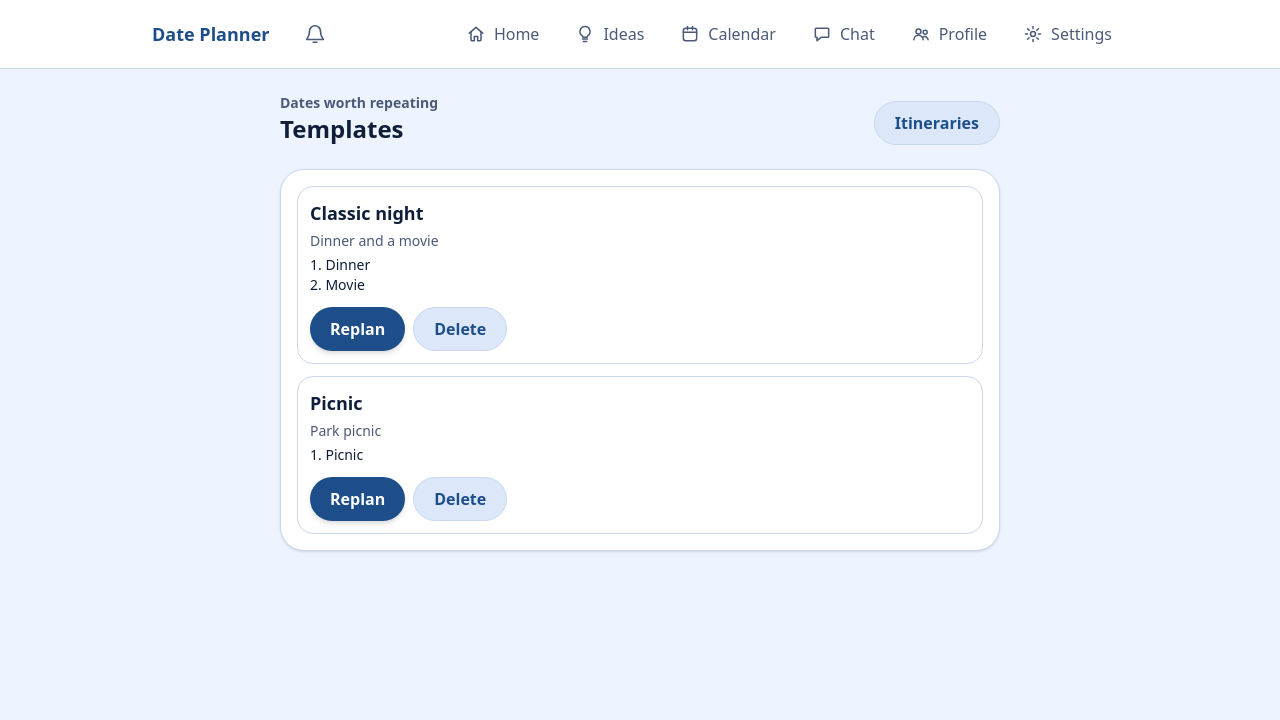
Test: TemplatesPage › deletes only after confirming
Click the button with aria-label "Delete Picnic": (460,499) [413,477,507,521]
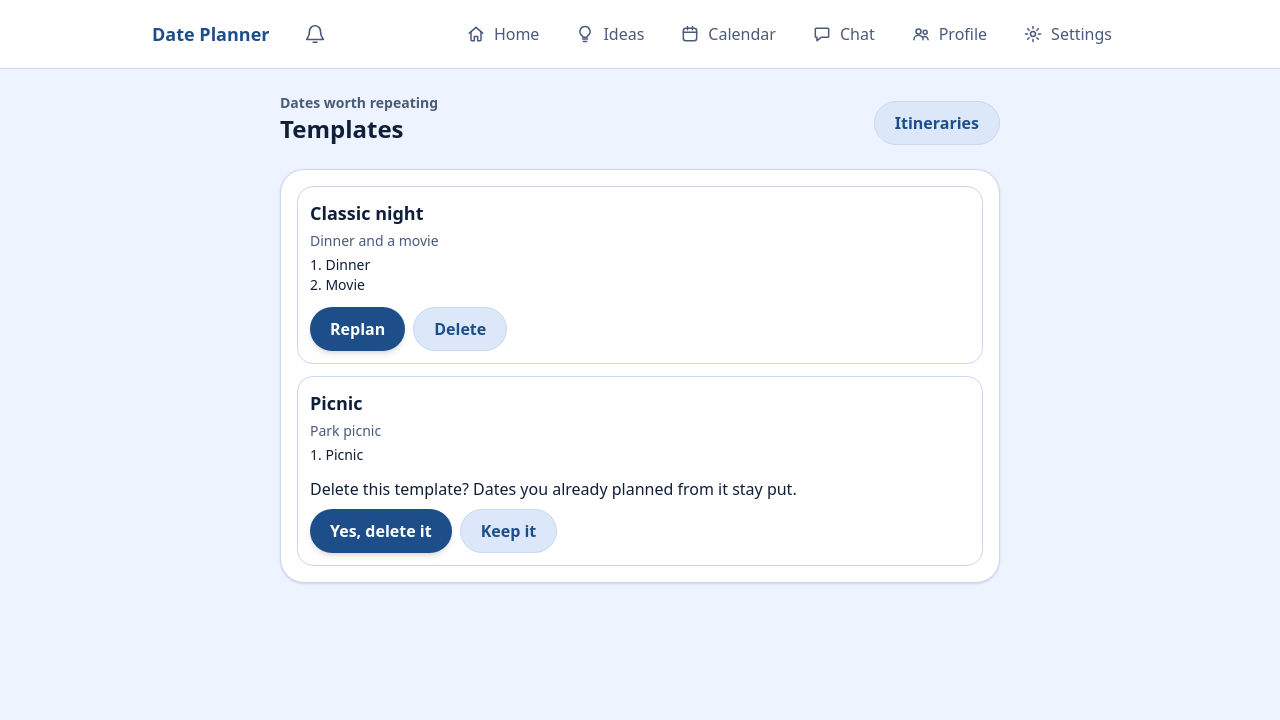
Click the button "Keep it": (508,531) [460,509,557,553]
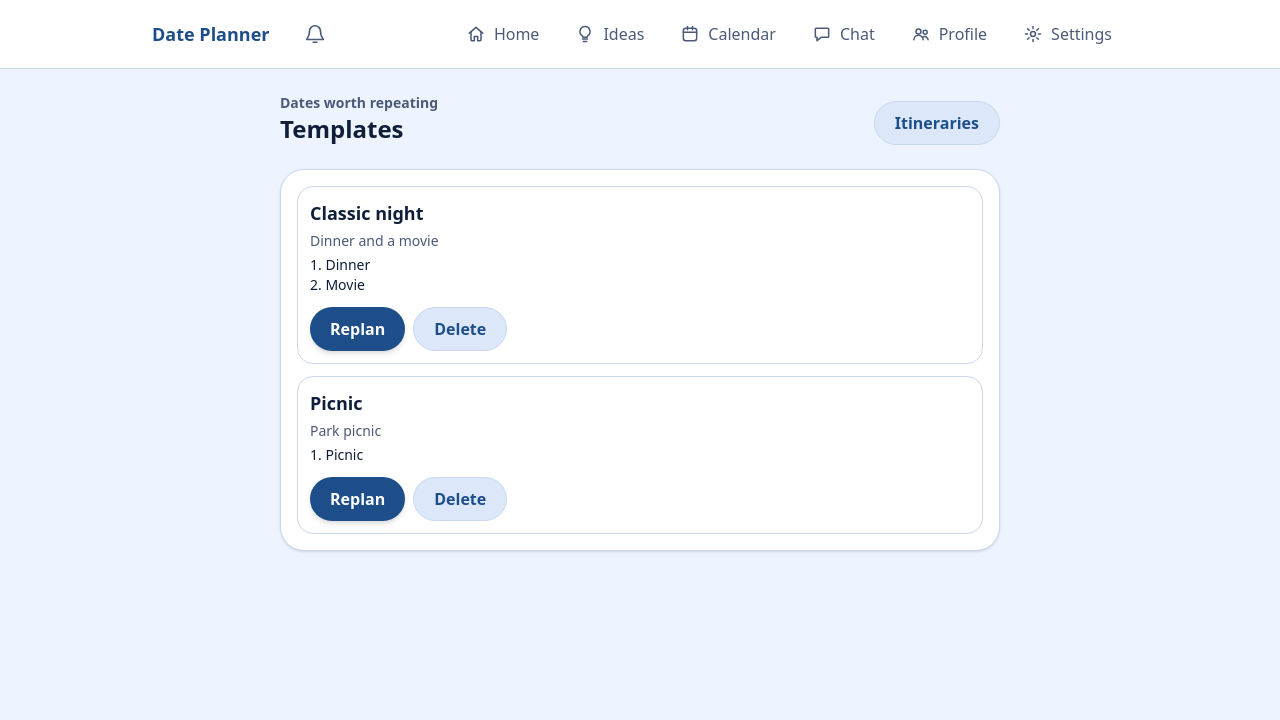
Click the button with aria-label "Delete Picnic": (460,499) [413,477,507,521]
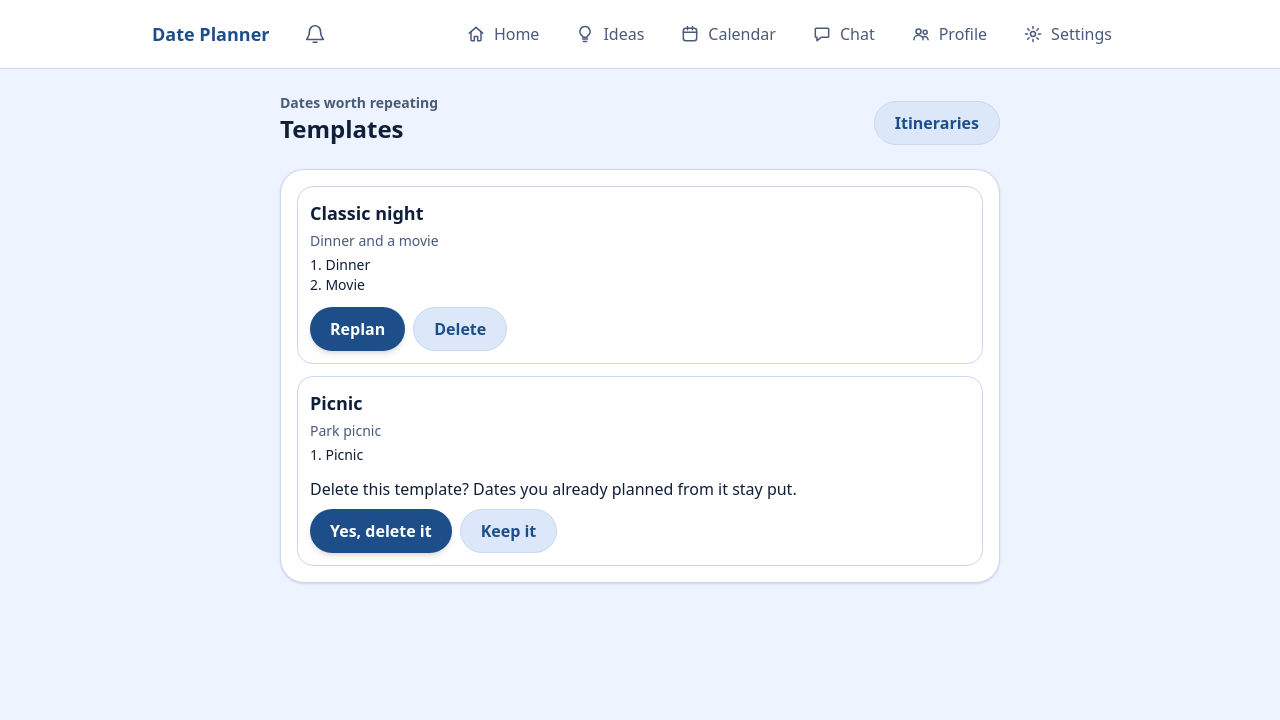
Click the button "Yes, delete it": (381,531) [310,509,452,553]
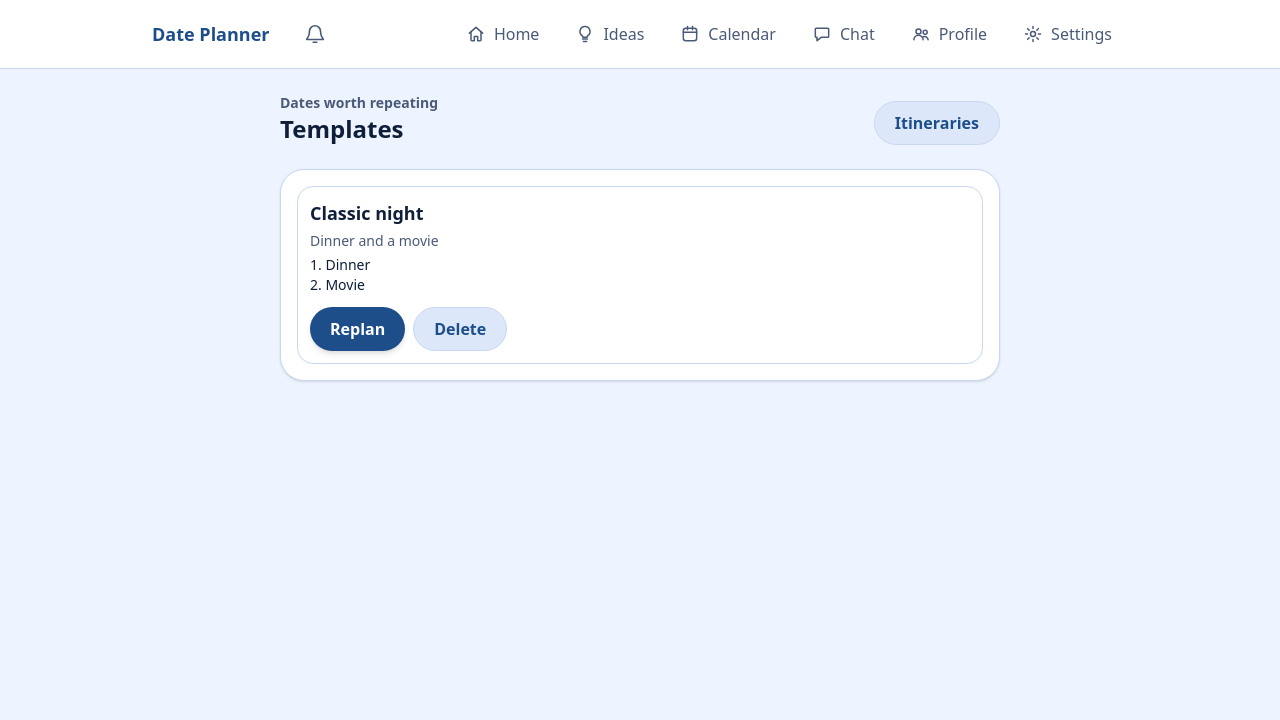
Now the heading "Picnic" is gone
